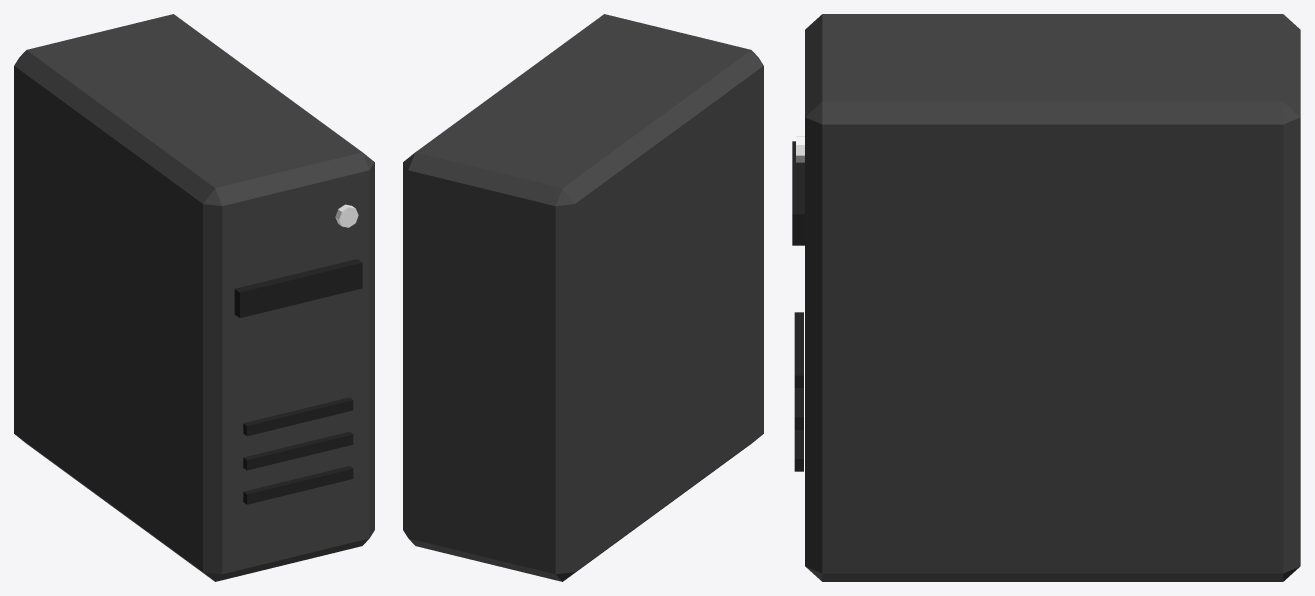
3 renders of one model, left to right at view 1: azimuth 30°, elevation 25°; view 2: azimuth 150°, elevation 25°; view 3: azimuth 270°, elevation 25°, orthographic. The views are drawn at different scales.
Visible parts, largest first — view 1: Tower, Drive, Vent, Vent.001, Vent.002; view 2: Tower; view 3: Tower, Drive, Vent.002.
Part boxes in pixels (bbox=[...]): Tower: bbox=[14, 14, 374, 581]; Drive: bbox=[234, 259, 362, 318]; Vent: bbox=[243, 466, 353, 504]; Vent.001: bbox=[243, 431, 353, 470]; Vent.002: bbox=[243, 397, 353, 436]; Tower: bbox=[403, 14, 763, 581]; Tower: bbox=[805, 14, 1300, 581]; Drive: bbox=[792, 141, 804, 245]; Vent.002: bbox=[794, 312, 803, 387].
Bounding box in the file's own units: 0.21 × 0.46 × 0.441.
Materials: 1 (1 with a texture image).
